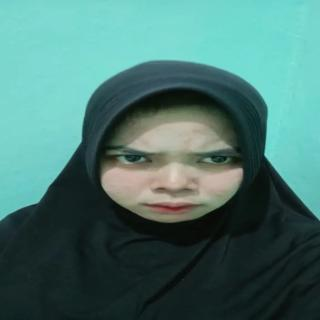Marah: (97, 101, 257, 228)
